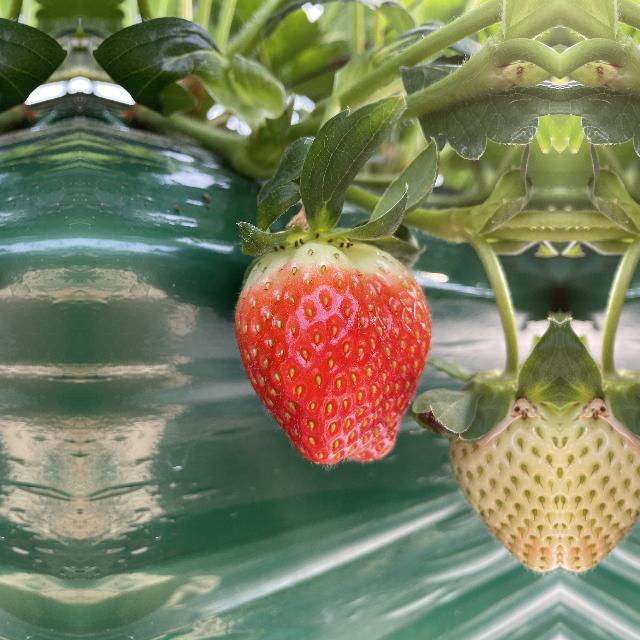Health_100: (226, 234, 440, 466)
Health_25: (445, 373, 559, 573), (561, 373, 640, 573)
